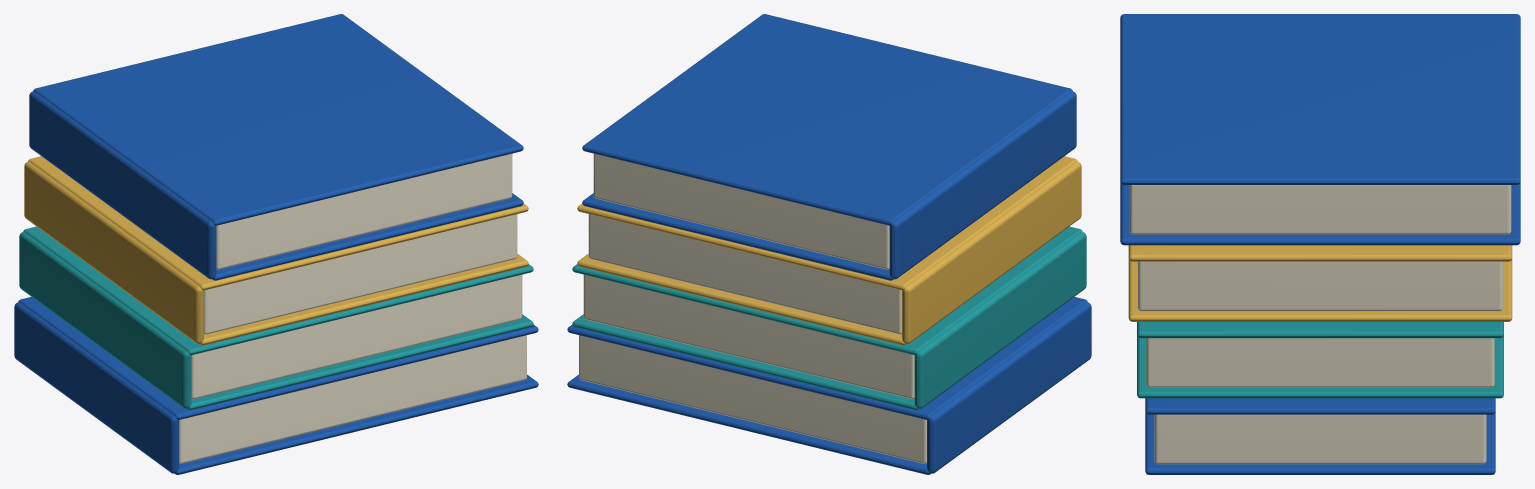
The model's file is ReferenceBooks.fbx.
3 views of the same model, side by side, from view 1: azimuth 30°, elevation 25°; view 2: azimuth 150°, elevation 25°; view 3: azimuth 270°, elevation 25° (orthographic). The views are drawn at different scales.
Parts seen in each view (by area): view 1: ReferenceBooks.001; view 2: ReferenceBooks.001; view 3: ReferenceBooks.001.
Part boxes in pixels (box(x1,y1,x2,y2)): ReferenceBooks.001: box(14, 14, 538, 474); ReferenceBooks.001: box(567, 14, 1091, 474); ReferenceBooks.001: box(1120, 14, 1520, 474).
Bounding box in the file's own units: 0.253 × 0.169 × 0.217.
